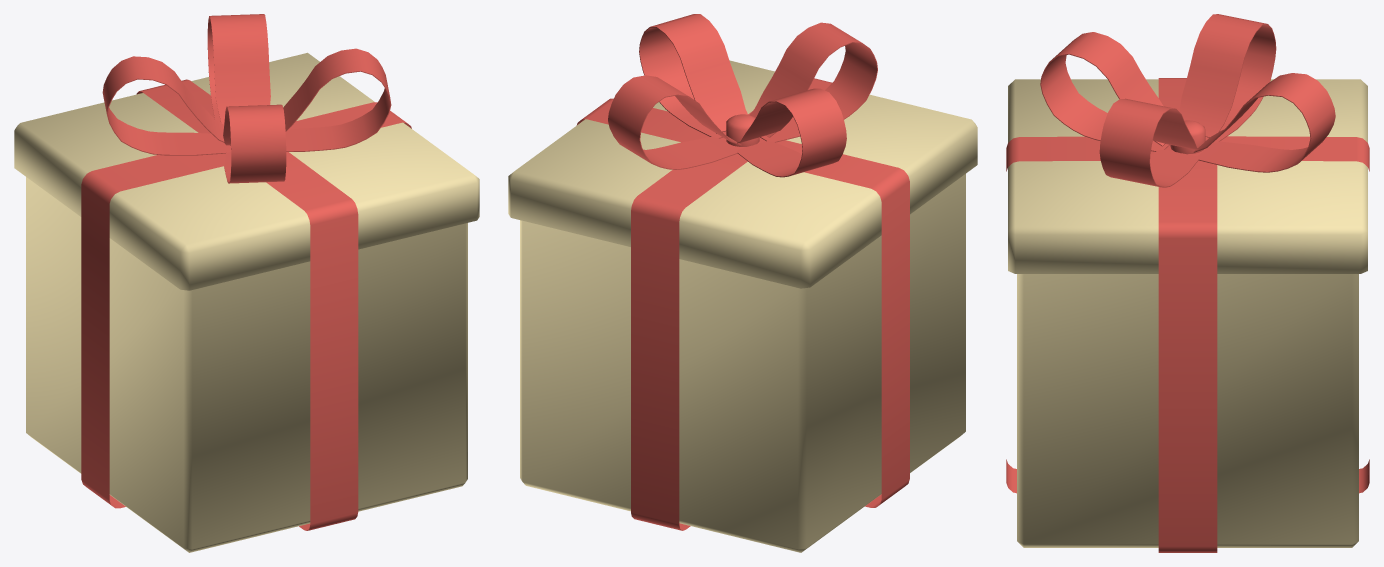
Rendered from Present.fbx.
The picture shows the model from 3 angles, left to right: view 1: azimuth 30°, elevation 25°; view 2: azimuth 150°, elevation 25°; view 3: azimuth 270°, elevation 25°; orthographic projection. The views are drawn at different scales.
Visible parts, largest first — view 1: Present; view 2: Present; view 3: Present.
Part boxes in pixels (left/top/right/bottom): Present: left=14, top=14, right=479, bottom=552; Present: left=508, top=14, right=977, bottom=552; Present: left=1006, top=14, right=1369, bottom=552.
Size of the model in its own units: 40.39 by 51.28 by 40.29.
